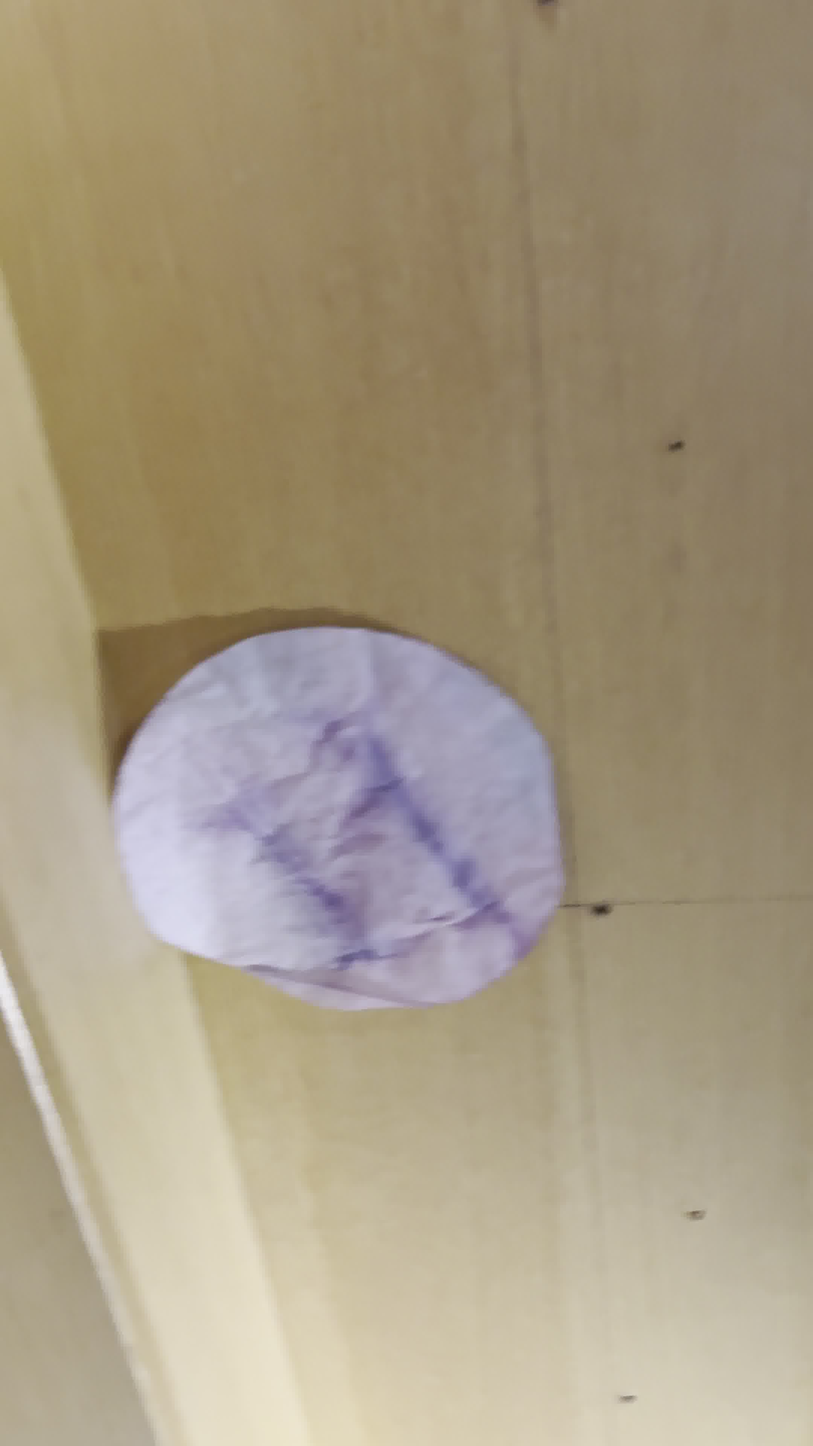Target: (111, 630, 564, 1010)
